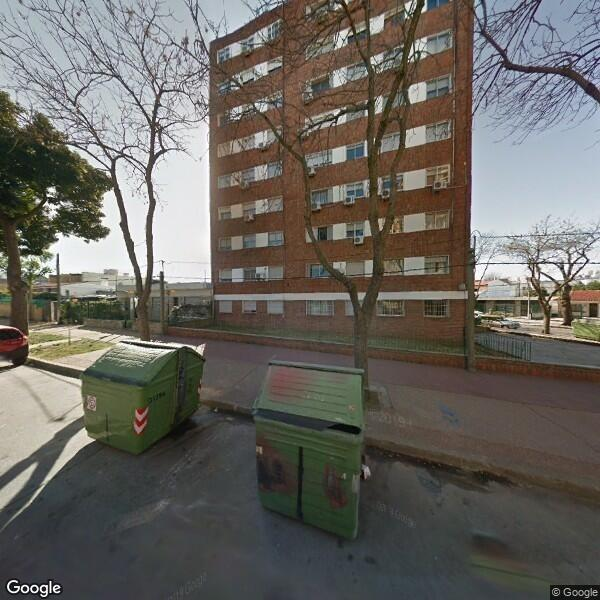Trash: (256, 358, 374, 553), (80, 336, 206, 456)
